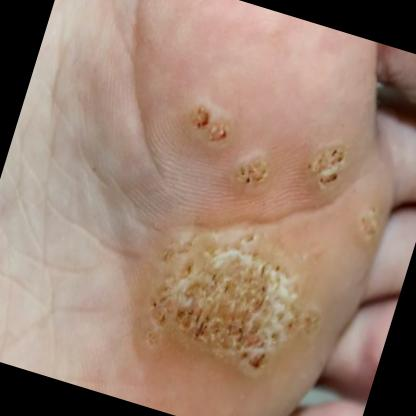Warts: (117, 190, 343, 404), (289, 112, 365, 214), (176, 82, 246, 160), (220, 137, 284, 202), (346, 190, 392, 254)
